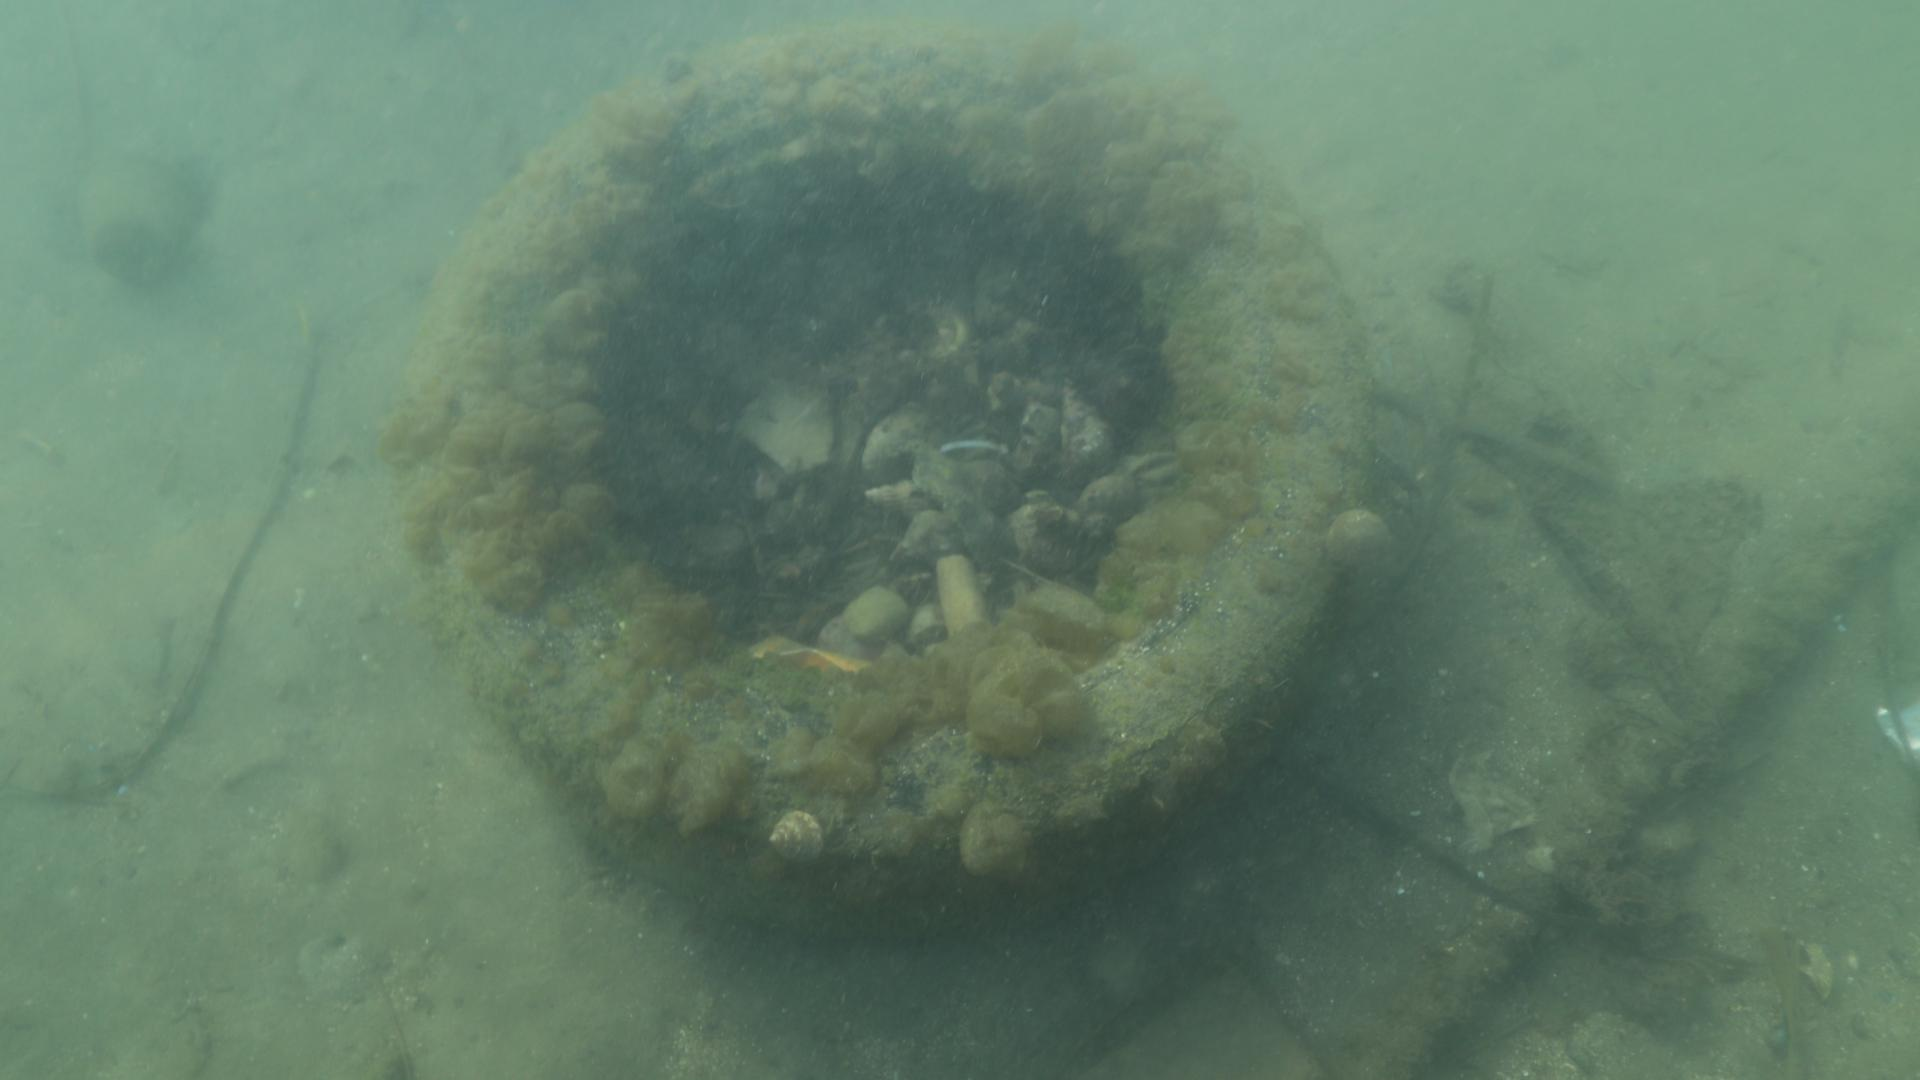tire: (405, 11, 1379, 923)
